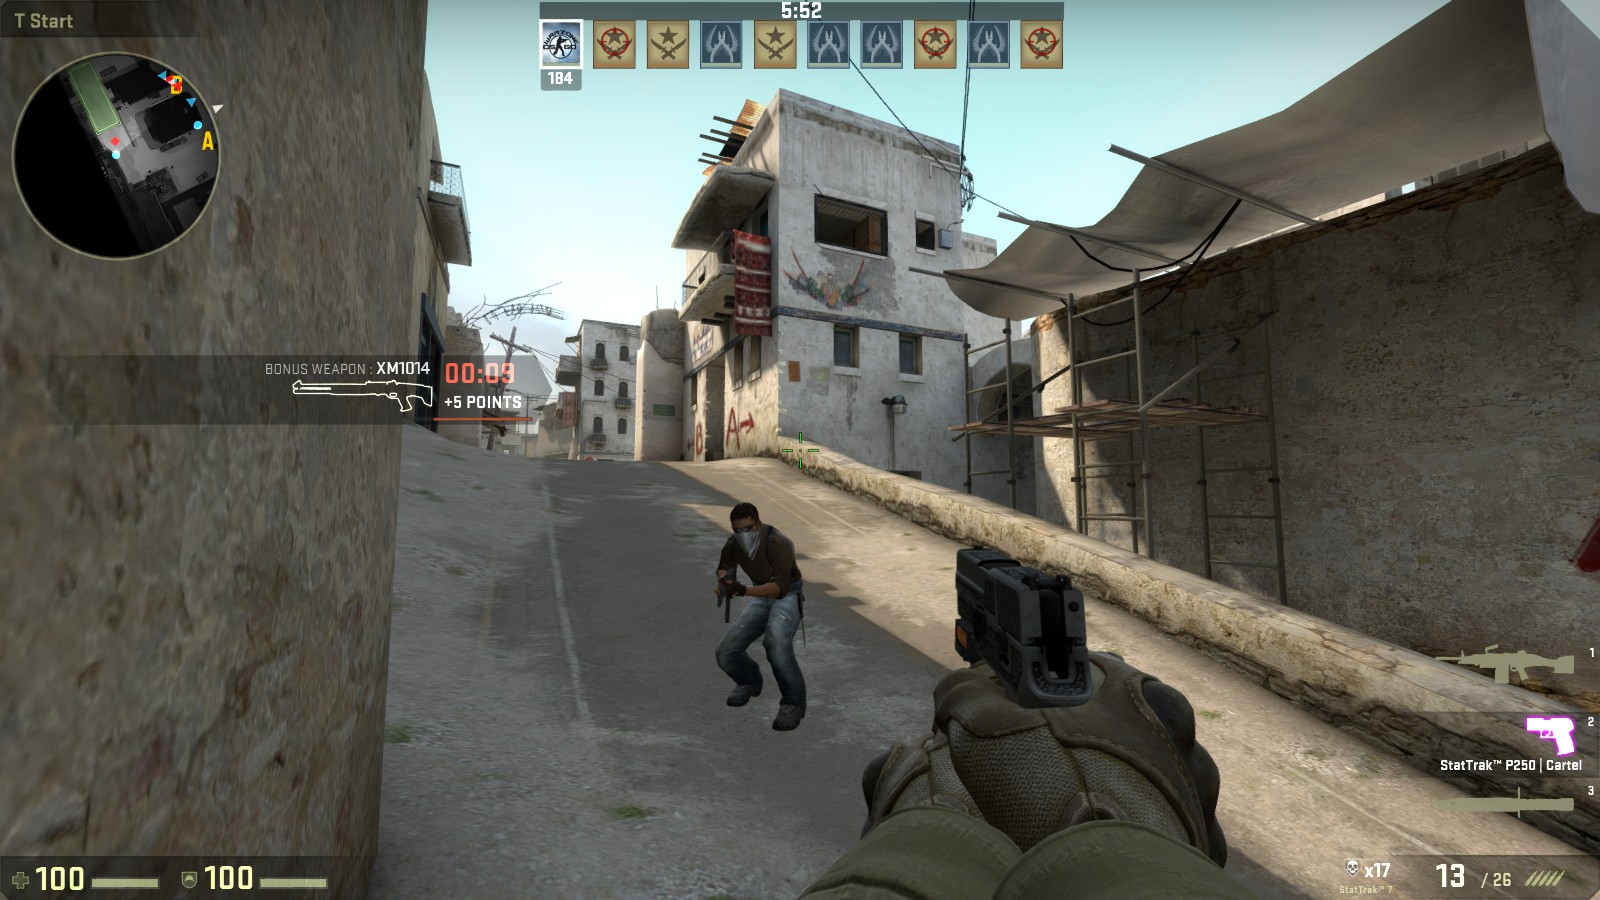t: (714, 505, 808, 725)
th: (727, 500, 764, 549)
